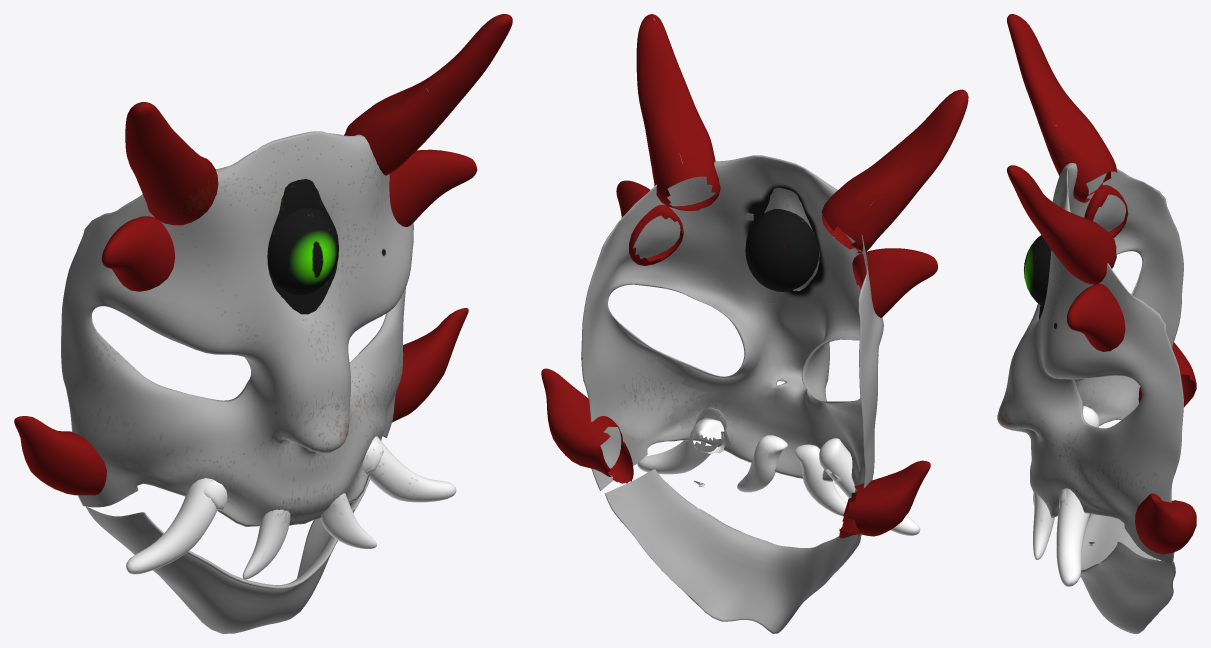
The model's file is oni_mask.glb.
3 renders of one model, left to right at view 1: azimuth 30°, elevation 25°; view 2: azimuth 150°, elevation 25°; view 3: azimuth 270°, elevation 25°, orthographic. The views are drawn at different scales.
Visible parts, largest first — view 1: Mask_6_2, Mask_6.001_3; view 2: Mask_6_2, Mask_6.001_3; view 3: Mask_6_2, Mask_6.001_3.
Boxes of the visible parts, left/top/right/bottom form: Mask_6_2: left=14, top=14, right=512, bottom=579; Mask_6.001_3: left=86, top=478, right=369, bottom=633; Mask_6_2: left=541, top=14, right=968, bottom=552; Mask_6.001_3: left=605, top=469, right=860, bottom=633; Mask_6_2: left=997, top=14, right=1196, bottom=586; Mask_6.001_3: left=1080, top=514, right=1175, bottom=633.
Size of the model in its own units: 2.09 by 2.72 by 0.926.
1 material, 1 textured.
